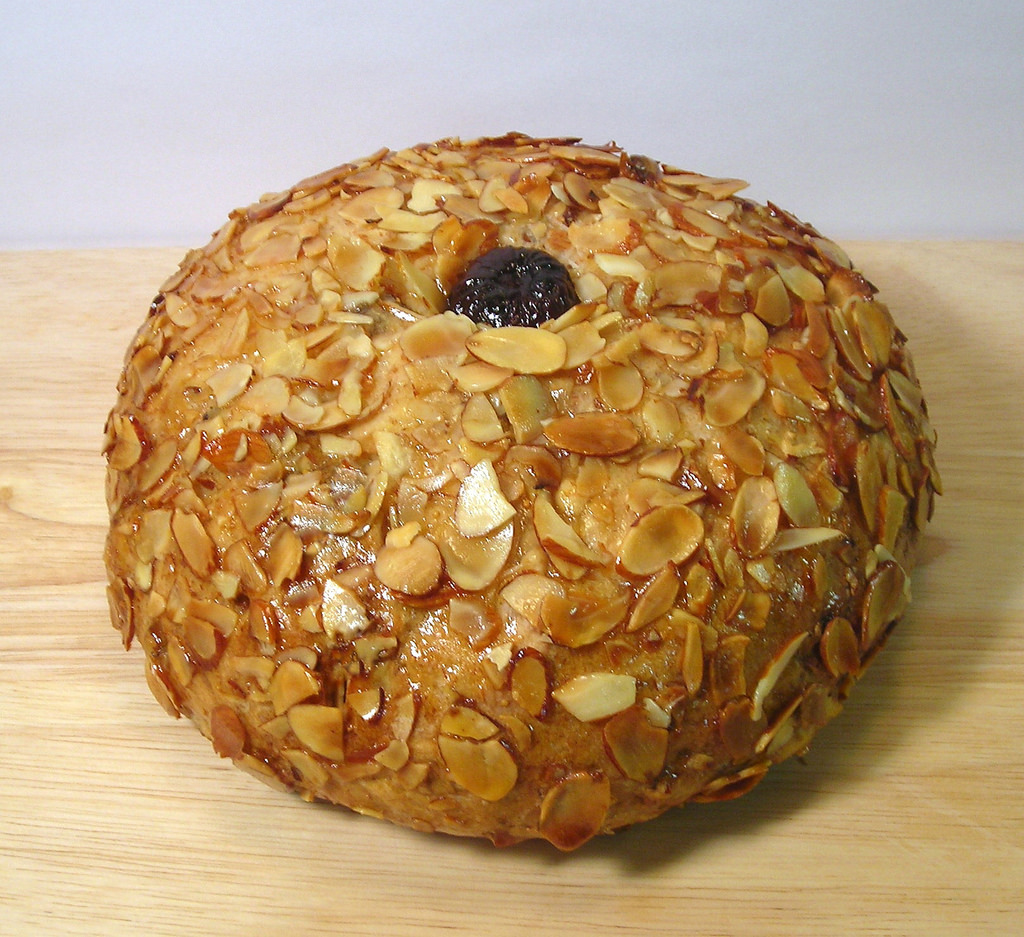slice of bread: (115, 164, 982, 797)
